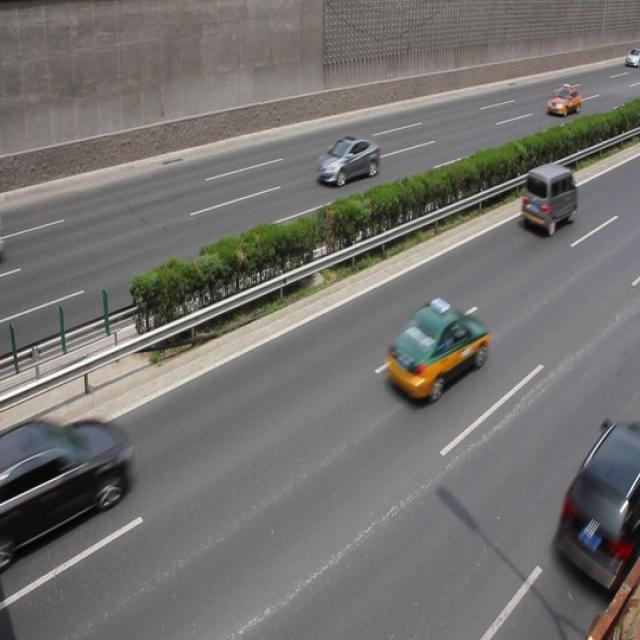car: (555, 418, 640, 592), (385, 300, 488, 402), (316, 134, 379, 188), (546, 83, 582, 115)
truck: (518, 162, 576, 236)
